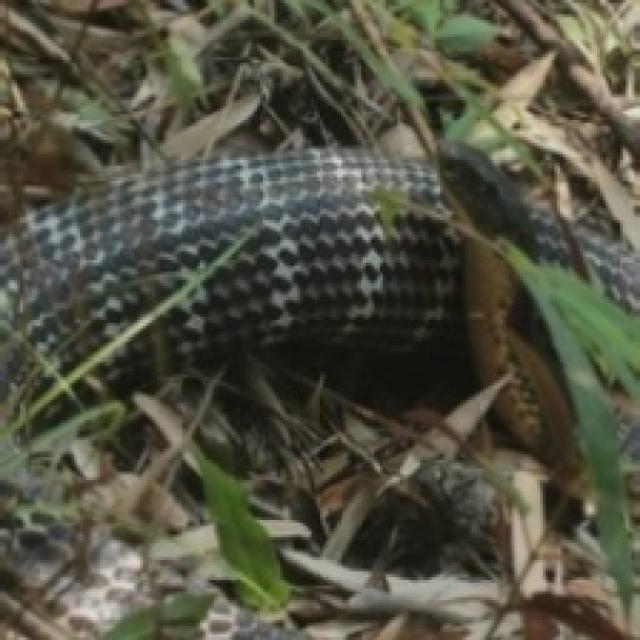king cobra: (0, 149, 626, 637), (194, 449, 369, 620)
